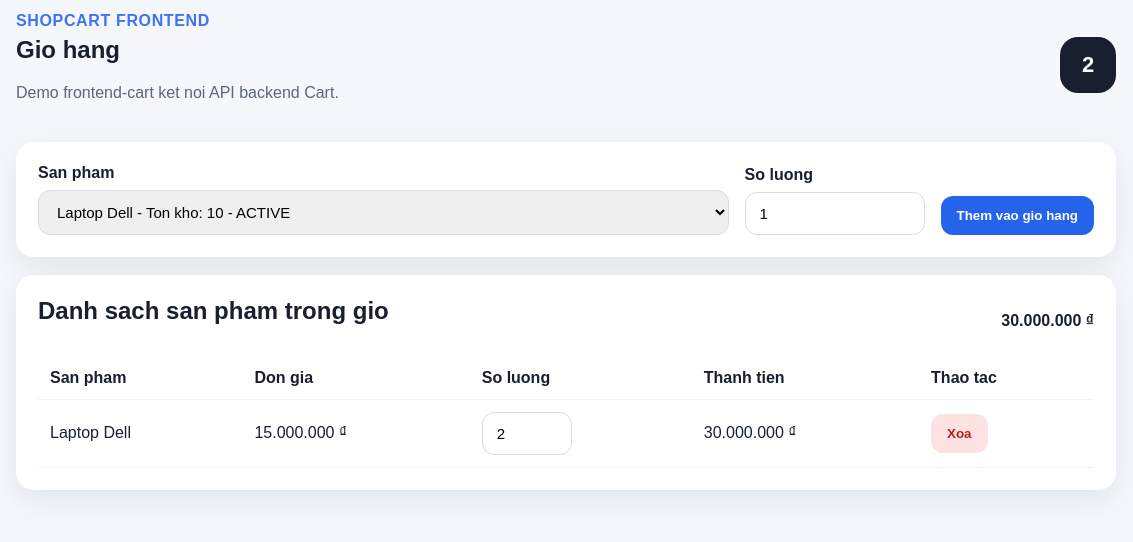
Cart Component Extra Coverage Tests › TC_CART_EXTRA_003: Xoa san pham khoi gio hang thanh cong
Click the button with test id "remove-P001".
click(959, 433)  # box top-left (931, 414), bottom-right (988, 453)
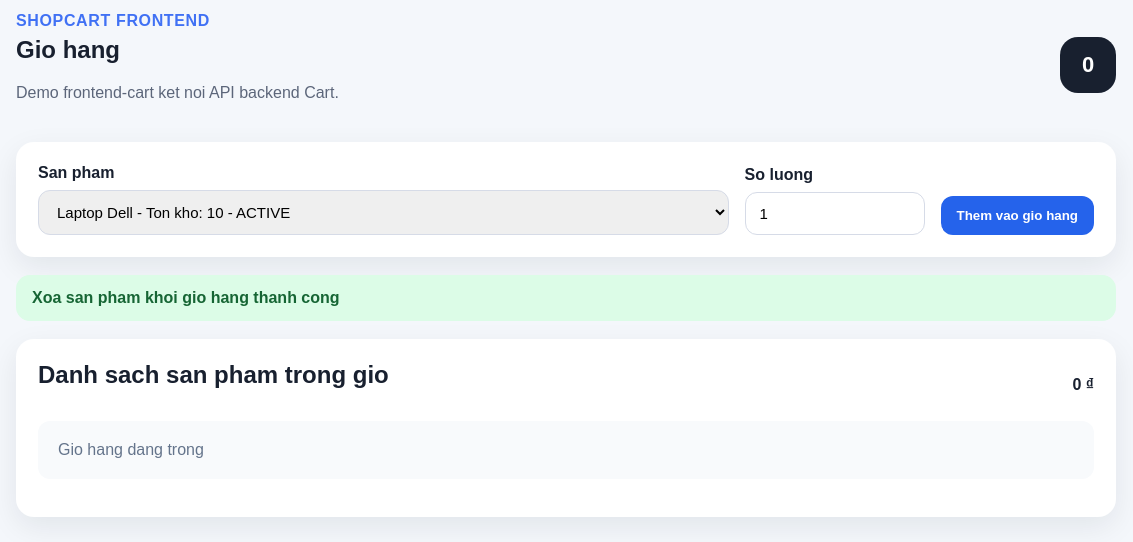
Expected: the text with test id "success-toast" reads "Xoa san pham khoi gio hang thanh cong", top-left (32, 289), bottom-right (340, 306)
Expected: the text with test id "empty-cart-message" reads "Gio hang dang trong", top-left (58, 441), bottom-right (204, 458)
